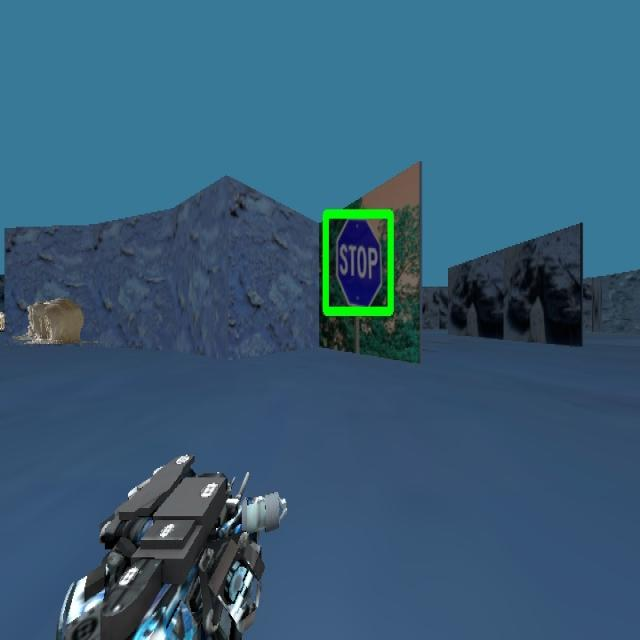Ice: (10, 285, 101, 360)
Stop_Sign: (321, 207, 395, 317)
